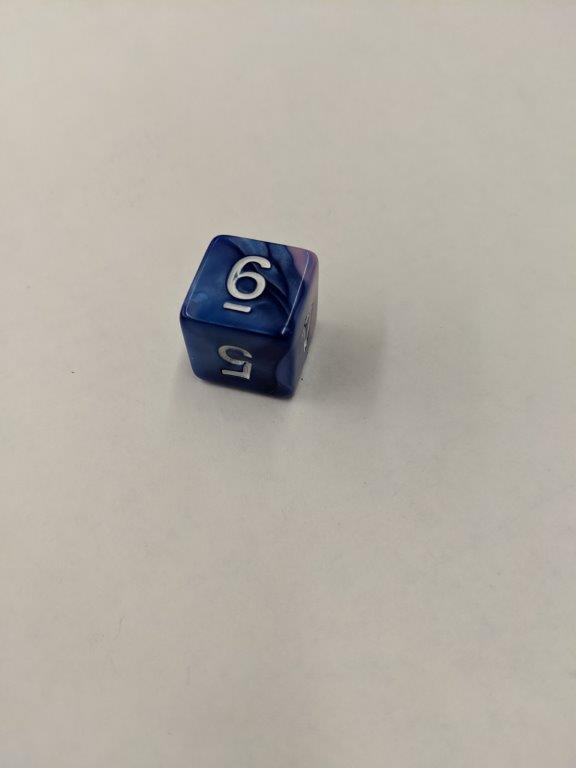d6-6: (179, 233, 320, 399)
